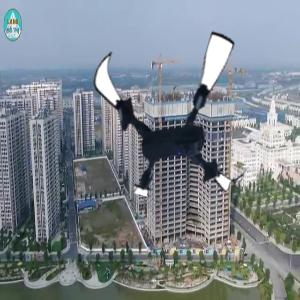drone: (86, 23, 266, 203)
